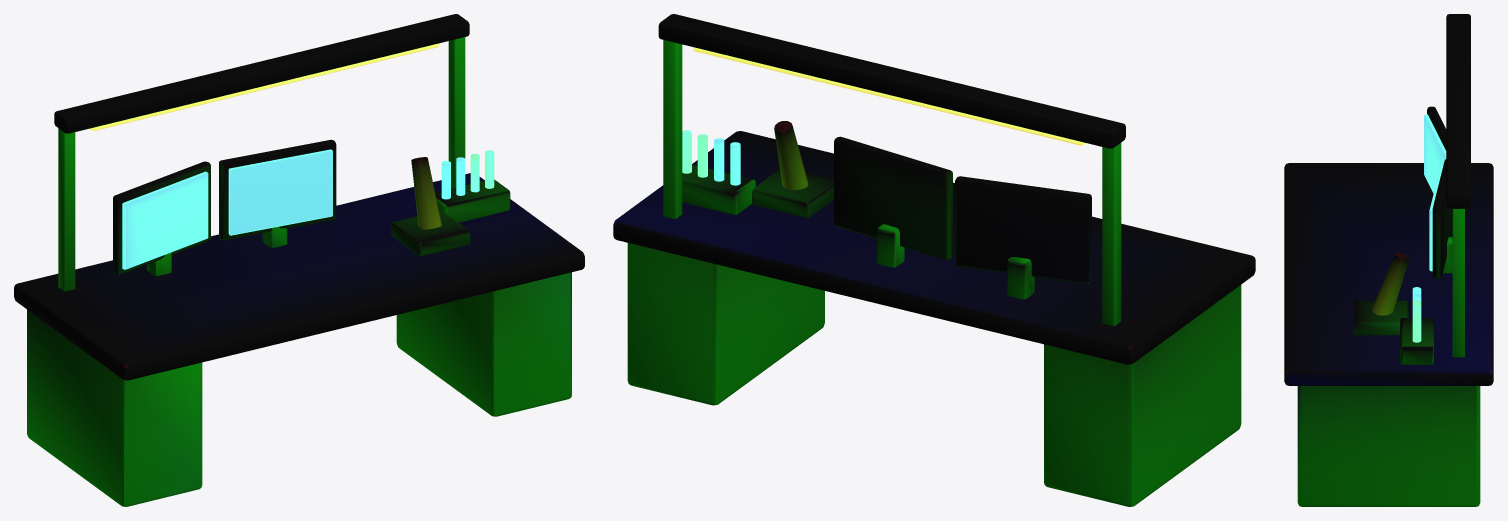
The model's file is hero_lab_workstation.glb.
The picture shows the model from 3 angles, left to right: view 1: azimuth 30°, elevation 25°; view 2: azimuth 150°, elevation 25°; view 3: azimuth 270°, elevation 25°; orthographic projection. The views are drawn at different scales.
Parts seen in each view (by area): view 1: HeroLabWorkstation; view 2: HeroLabWorkstation; view 3: HeroLabWorkstation.
Part boxes in pixels (x1=…): HeroLabWorkstation: x1=14, y1=14, x2=584, y2=506; HeroLabWorkstation: x1=613, y1=14, x2=1255, y2=506; HeroLabWorkstation: x1=1284, y1=14, x2=1493, y2=506.
Bounding box in the file's own units: 3.2 × 2.15 × 1.35.
